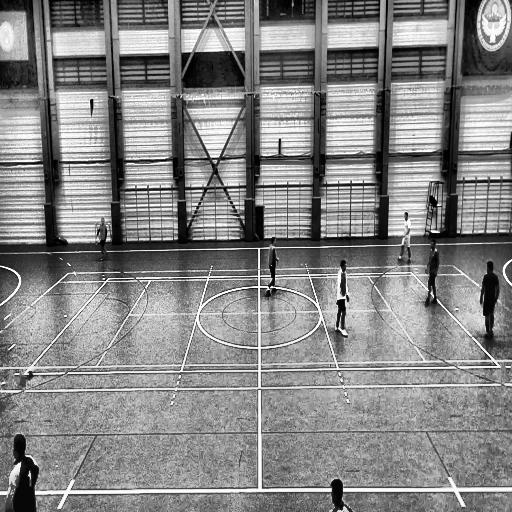ball: (25, 364, 36, 378)
player: (480, 261, 499, 338), (330, 257, 348, 337), (262, 236, 279, 296), (424, 238, 438, 304), (397, 211, 411, 261), (95, 217, 108, 256)
